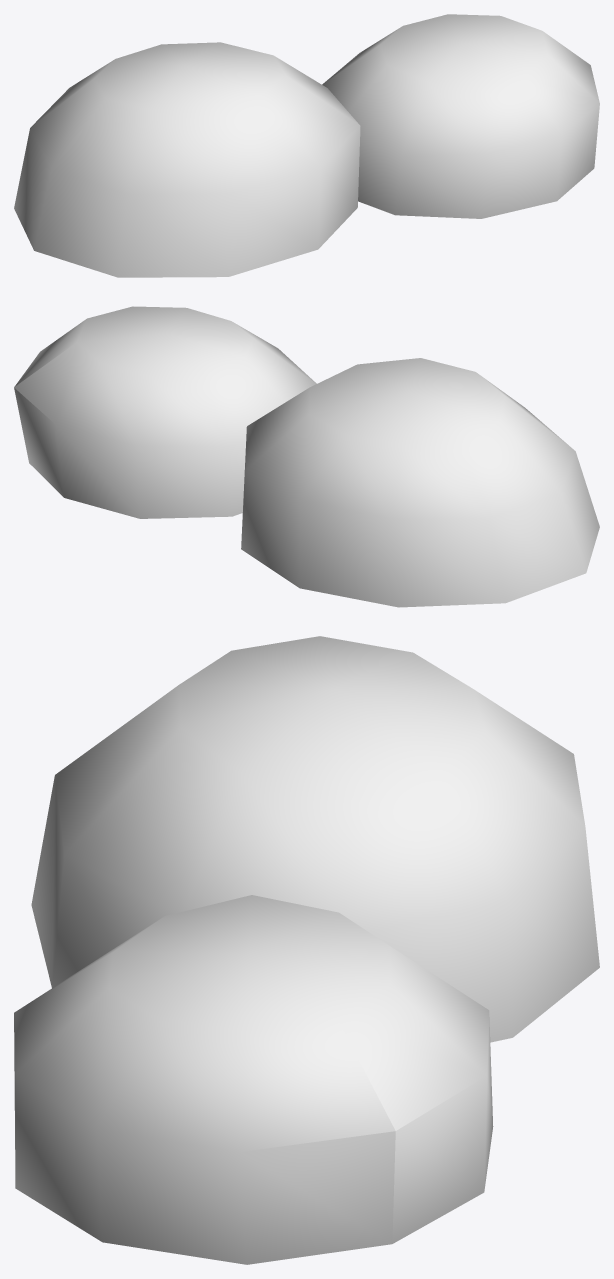
File: item_rm_jade_a.obj
The picture shows the model from 3 angles, top to bottom: view 1: azimuth 30°, elevation 25°; view 2: azimuth 150°, elevation 25°; view 3: azimuth 270°, elevation 25°; orthographic projection. The views are drawn at different scales.
Visible parts, largest first — view 1: part_000_rawmat_jade, part_034_rawmat_jade; view 2: part_000_rawmat_jade, part_034_rawmat_jade; view 3: part_000_rawmat_jade, part_034_rawmat_jade.
Part boxes in pixels (x1=…): part_000_rawmat_jade: x1=14, y1=42, x2=360, y2=277; part_034_rawmat_jade: x1=322, y1=14, x2=599, y2=218; part_000_rawmat_jade: x1=241, y1=358, x2=599, y2=607; part_034_rawmat_jade: x1=14, y1=306, x2=316, y2=518; part_000_rawmat_jade: x1=31, y1=636, x2=599, y2=1042; part_034_rawmat_jade: x1=14, y1=895, x2=493, y2=1264.
Size of the model in its own units: 0.7554 by 0.1872 by 0.3967.
